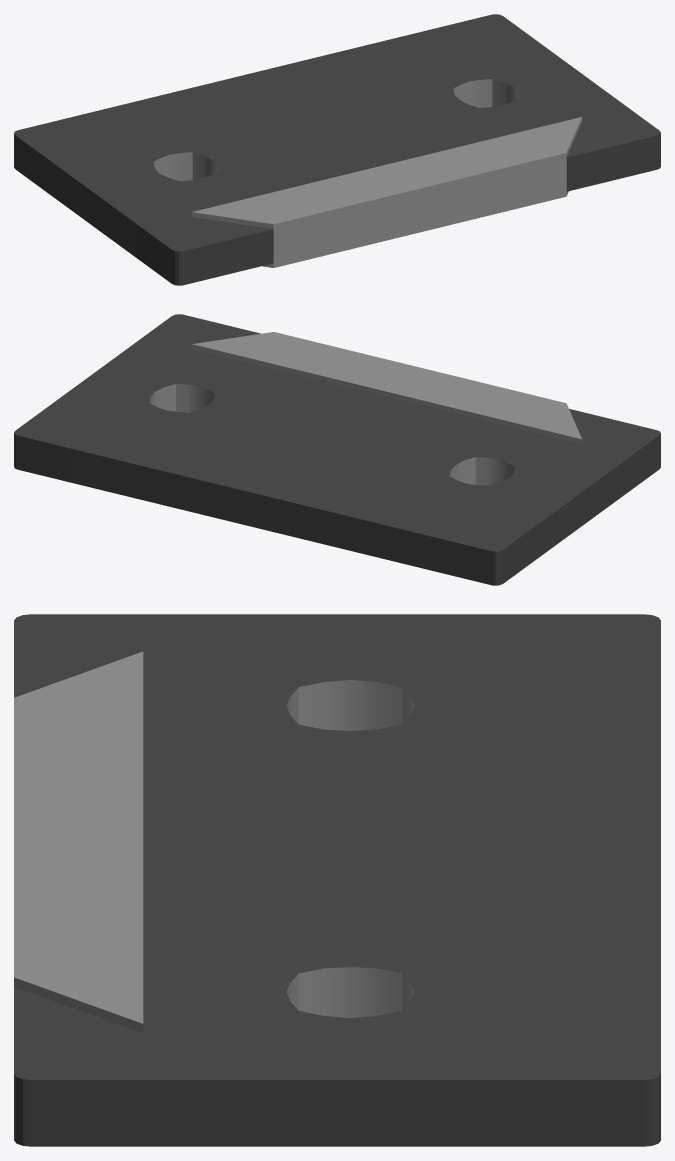
The model's file is CassetteTape.fbx.
3 views of the same model, one above another, from view 1: azimuth 30°, elevation 25°; view 2: azimuth 150°, elevation 25°; view 3: azimuth 270°, elevation 25° (orthographic). The views are drawn at different scales.
Visible parts, largest first — view 1: CassetteTape; view 2: CassetteTape; view 3: CassetteTape.
Boxes of the visible parts, box(x1,y1,x2,y2) form: CassetteTape: box(14, 14, 660, 285); CassetteTape: box(14, 314, 660, 585); CassetteTape: box(14, 614, 660, 1146).
Bounding box in the file's own units: 2.23 × 0.1911 × 1.31.
Materials: 2 (2 with a texture image).
